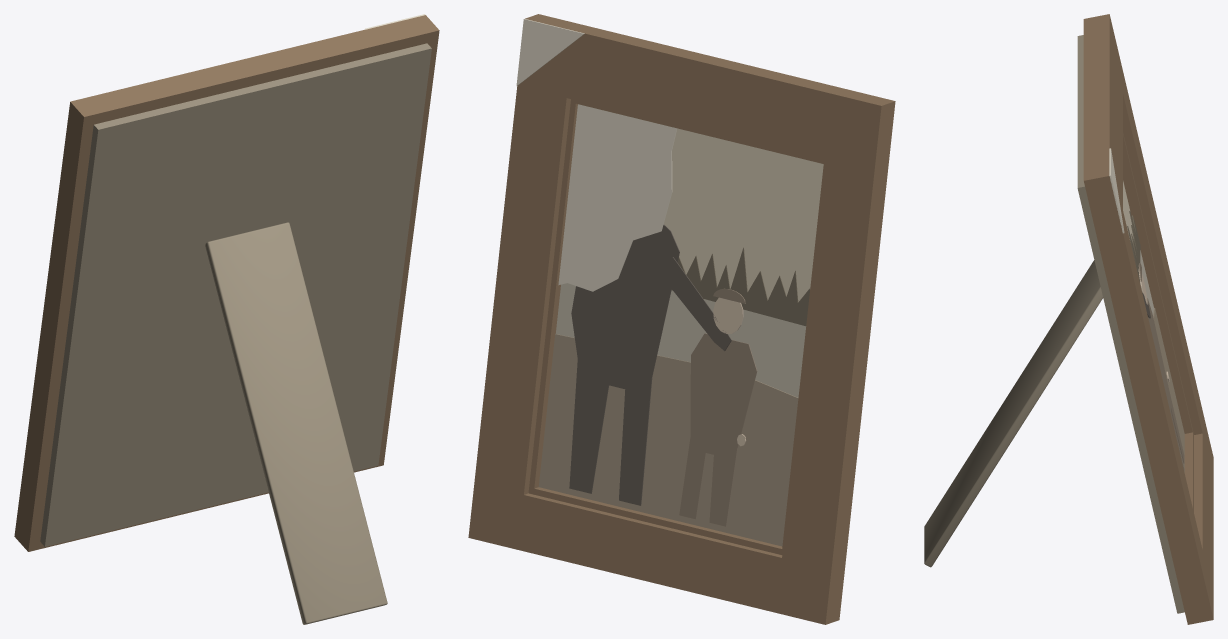
File: ss_desk_photo.glb
3 renders of one model, left to right at view 1: azimuth 30°, elevation 25°; view 2: azimuth 150°, elevation 25°; view 3: azimuth 270°, elevation 25°, orthographic. The views are drawn at different scales.
Visible parts, largest first — view 1: ss_desk_photo; view 2: ss_desk_photo; view 3: ss_desk_photo.
Part boxes in pixels (x1=…): ss_desk_photo: x1=14, y1=14, x2=439, y2=624; ss_desk_photo: x1=468, y1=14, x2=895, y2=624; ss_desk_photo: x1=924, y1=14, x2=1213, y2=624.
Size of the model in its own units: 0.13 by 0.1702 by 0.0983.
